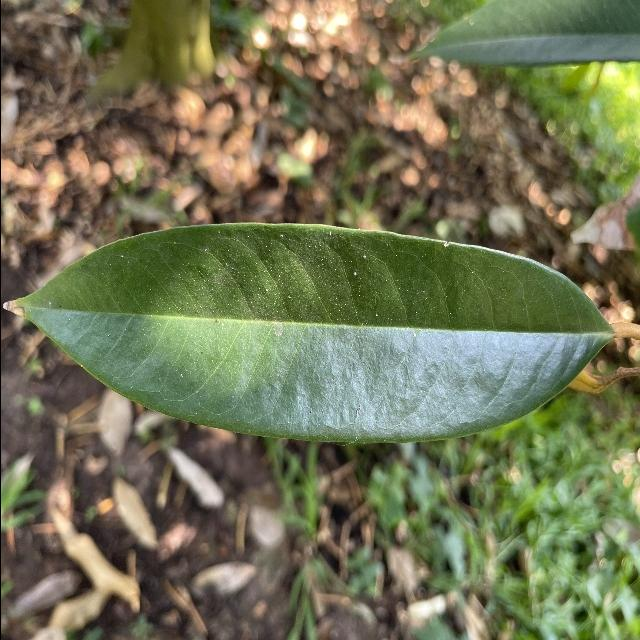No Disease: (0, 217, 621, 449)
